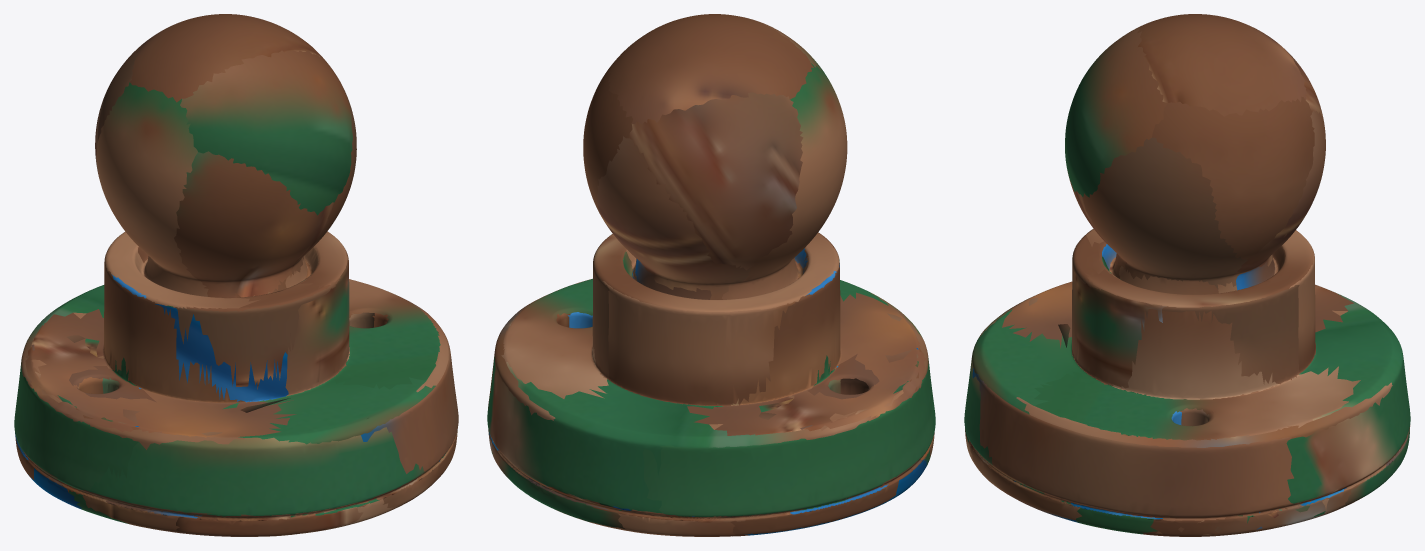
Rendered from purple.mtl.obj.
3 views of the same model, side by side, from view 1: azimuth 30°, elevation 25°; view 2: azimuth 150°, elevation 25°; view 3: azimuth 270°, elevation 25° (orthographic).
Parts seen in each view (by area): view 1: node_0.002; view 2: node_0.002; view 3: node_0.002.
Boxes of the visible parts, <box> form: node_0.002: <box>14,14,458,536</box>; node_0.002: <box>487,14,935,536</box>; node_0.002: <box>964,14,1410,536</box>.
Bounding box in the file's own units: 0.2043 × 0.2095 × 0.2035.
